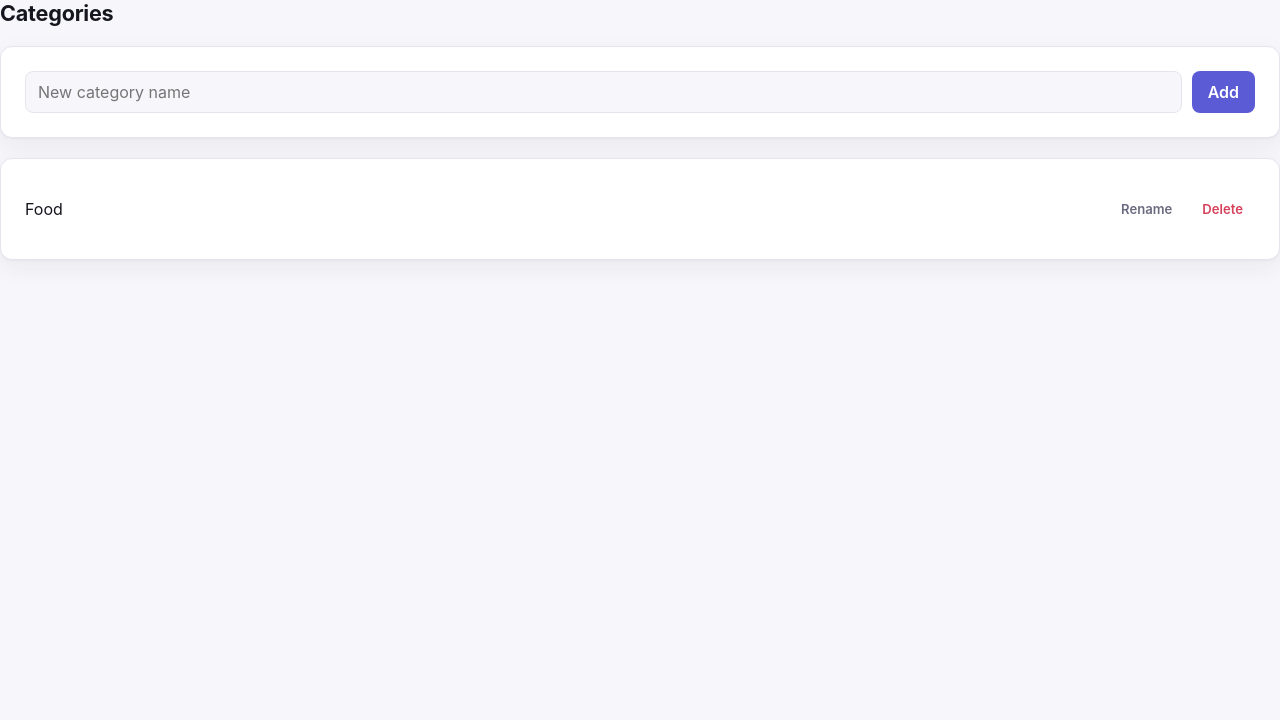
Test: CategoriesPage › shows a toast if deleting fails
The image size is (1280, 720).
expect the text "Food" is shown: met, box top-left (25, 199), bottom-right (63, 219)
Click the button "Delete".
click(1223, 209)  # box top-left (1190, 195), bottom-right (1255, 223)
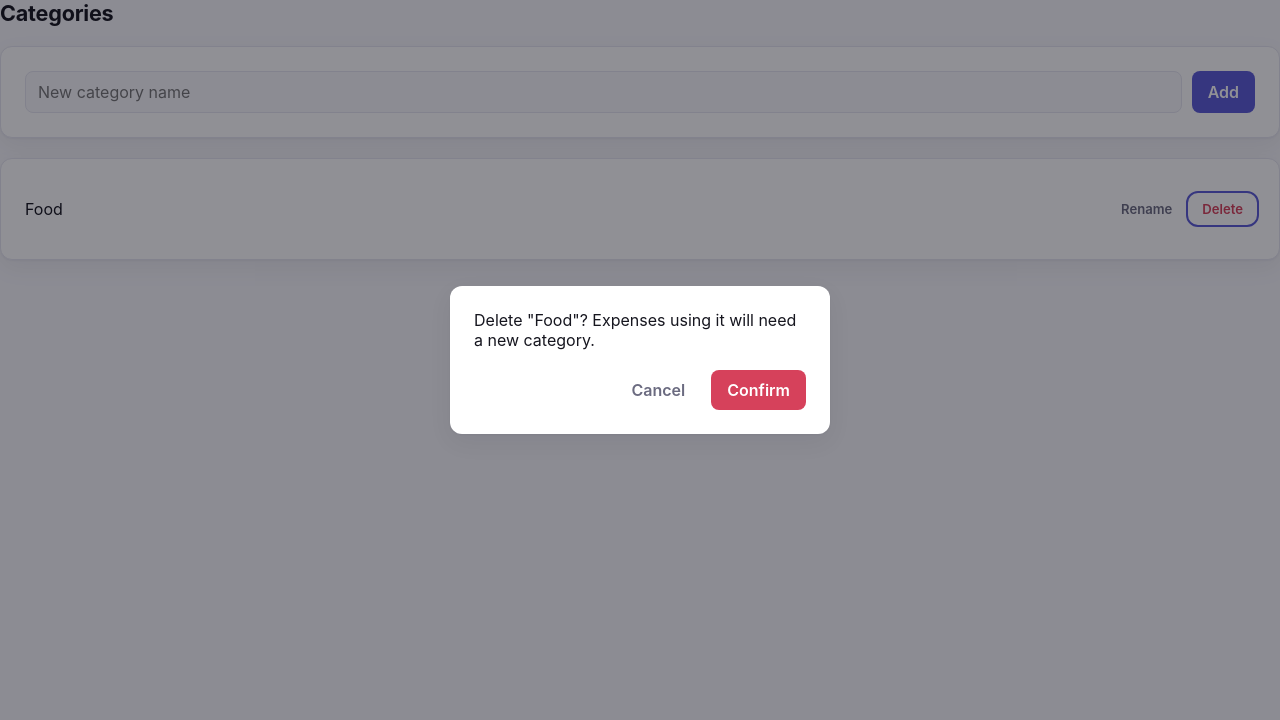
Click the button "Confirm".
click(759, 390)  # box top-left (711, 370), bottom-right (806, 410)
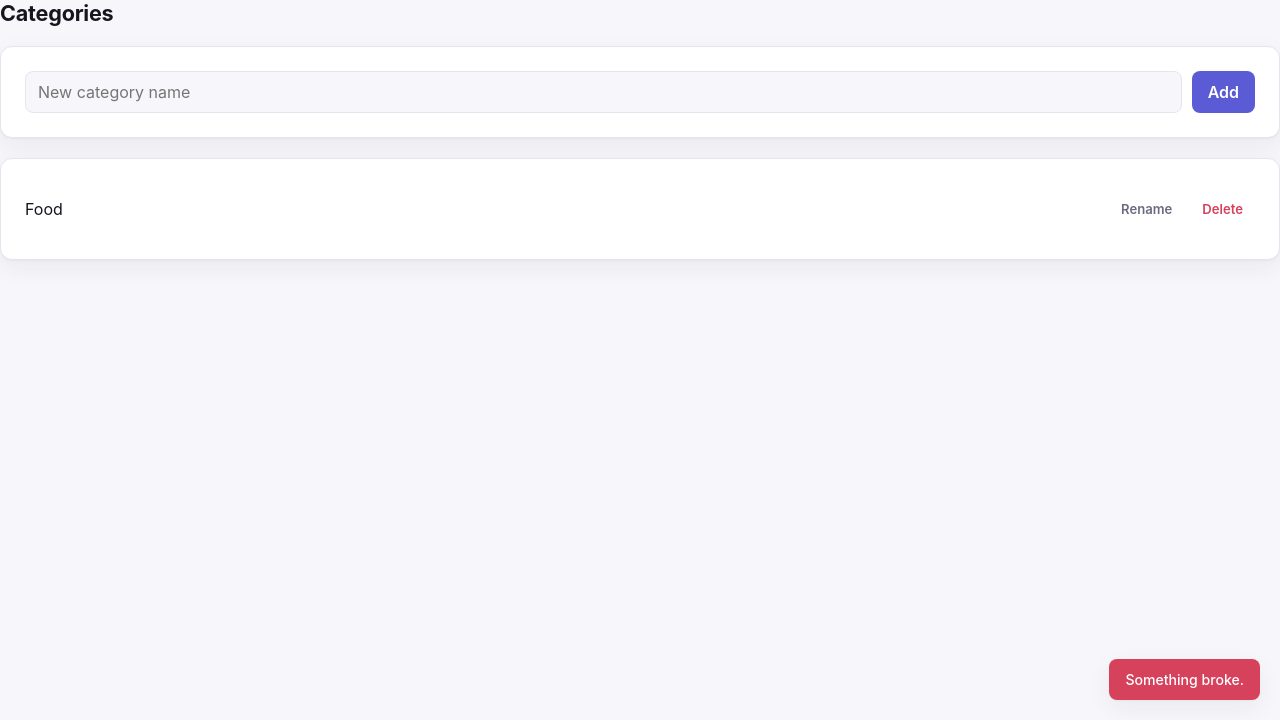
expect the text "Food" is shown: met, box top-left (25, 199), bottom-right (63, 219)
expect the text "Something broke." is shown: met, box top-left (1109, 659), bottom-right (1260, 700)
